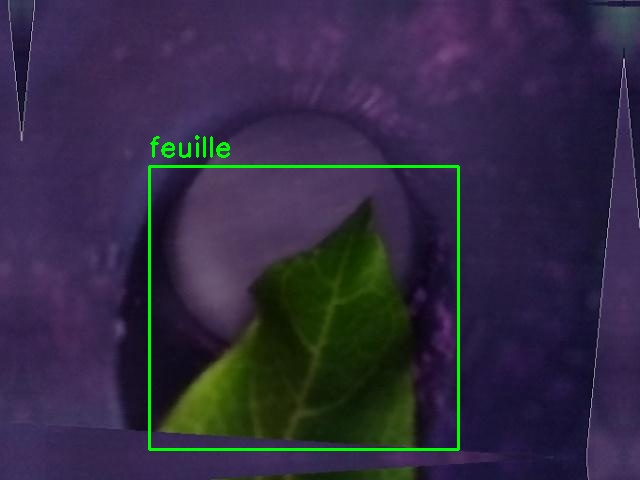feuille: (149, 166, 458, 449)
